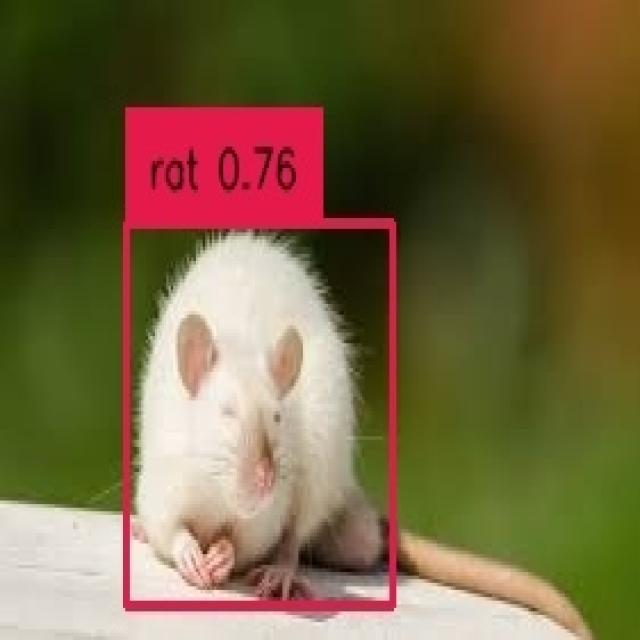rat: (123, 218, 389, 601)
